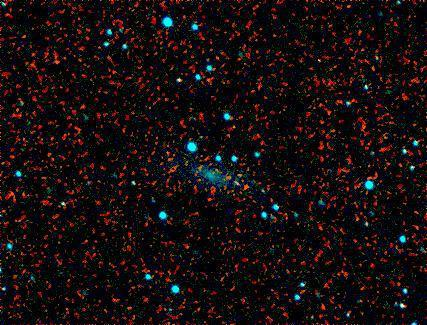star: (227, 160, 257, 190)
